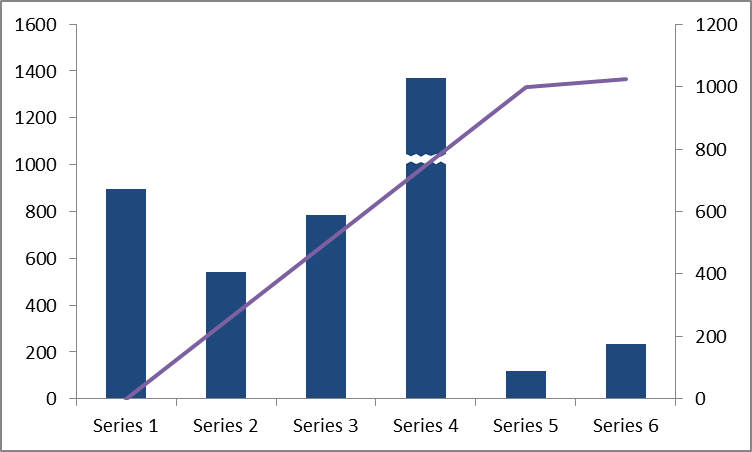OK_NoIssue: (9, 5, 752, 452)
